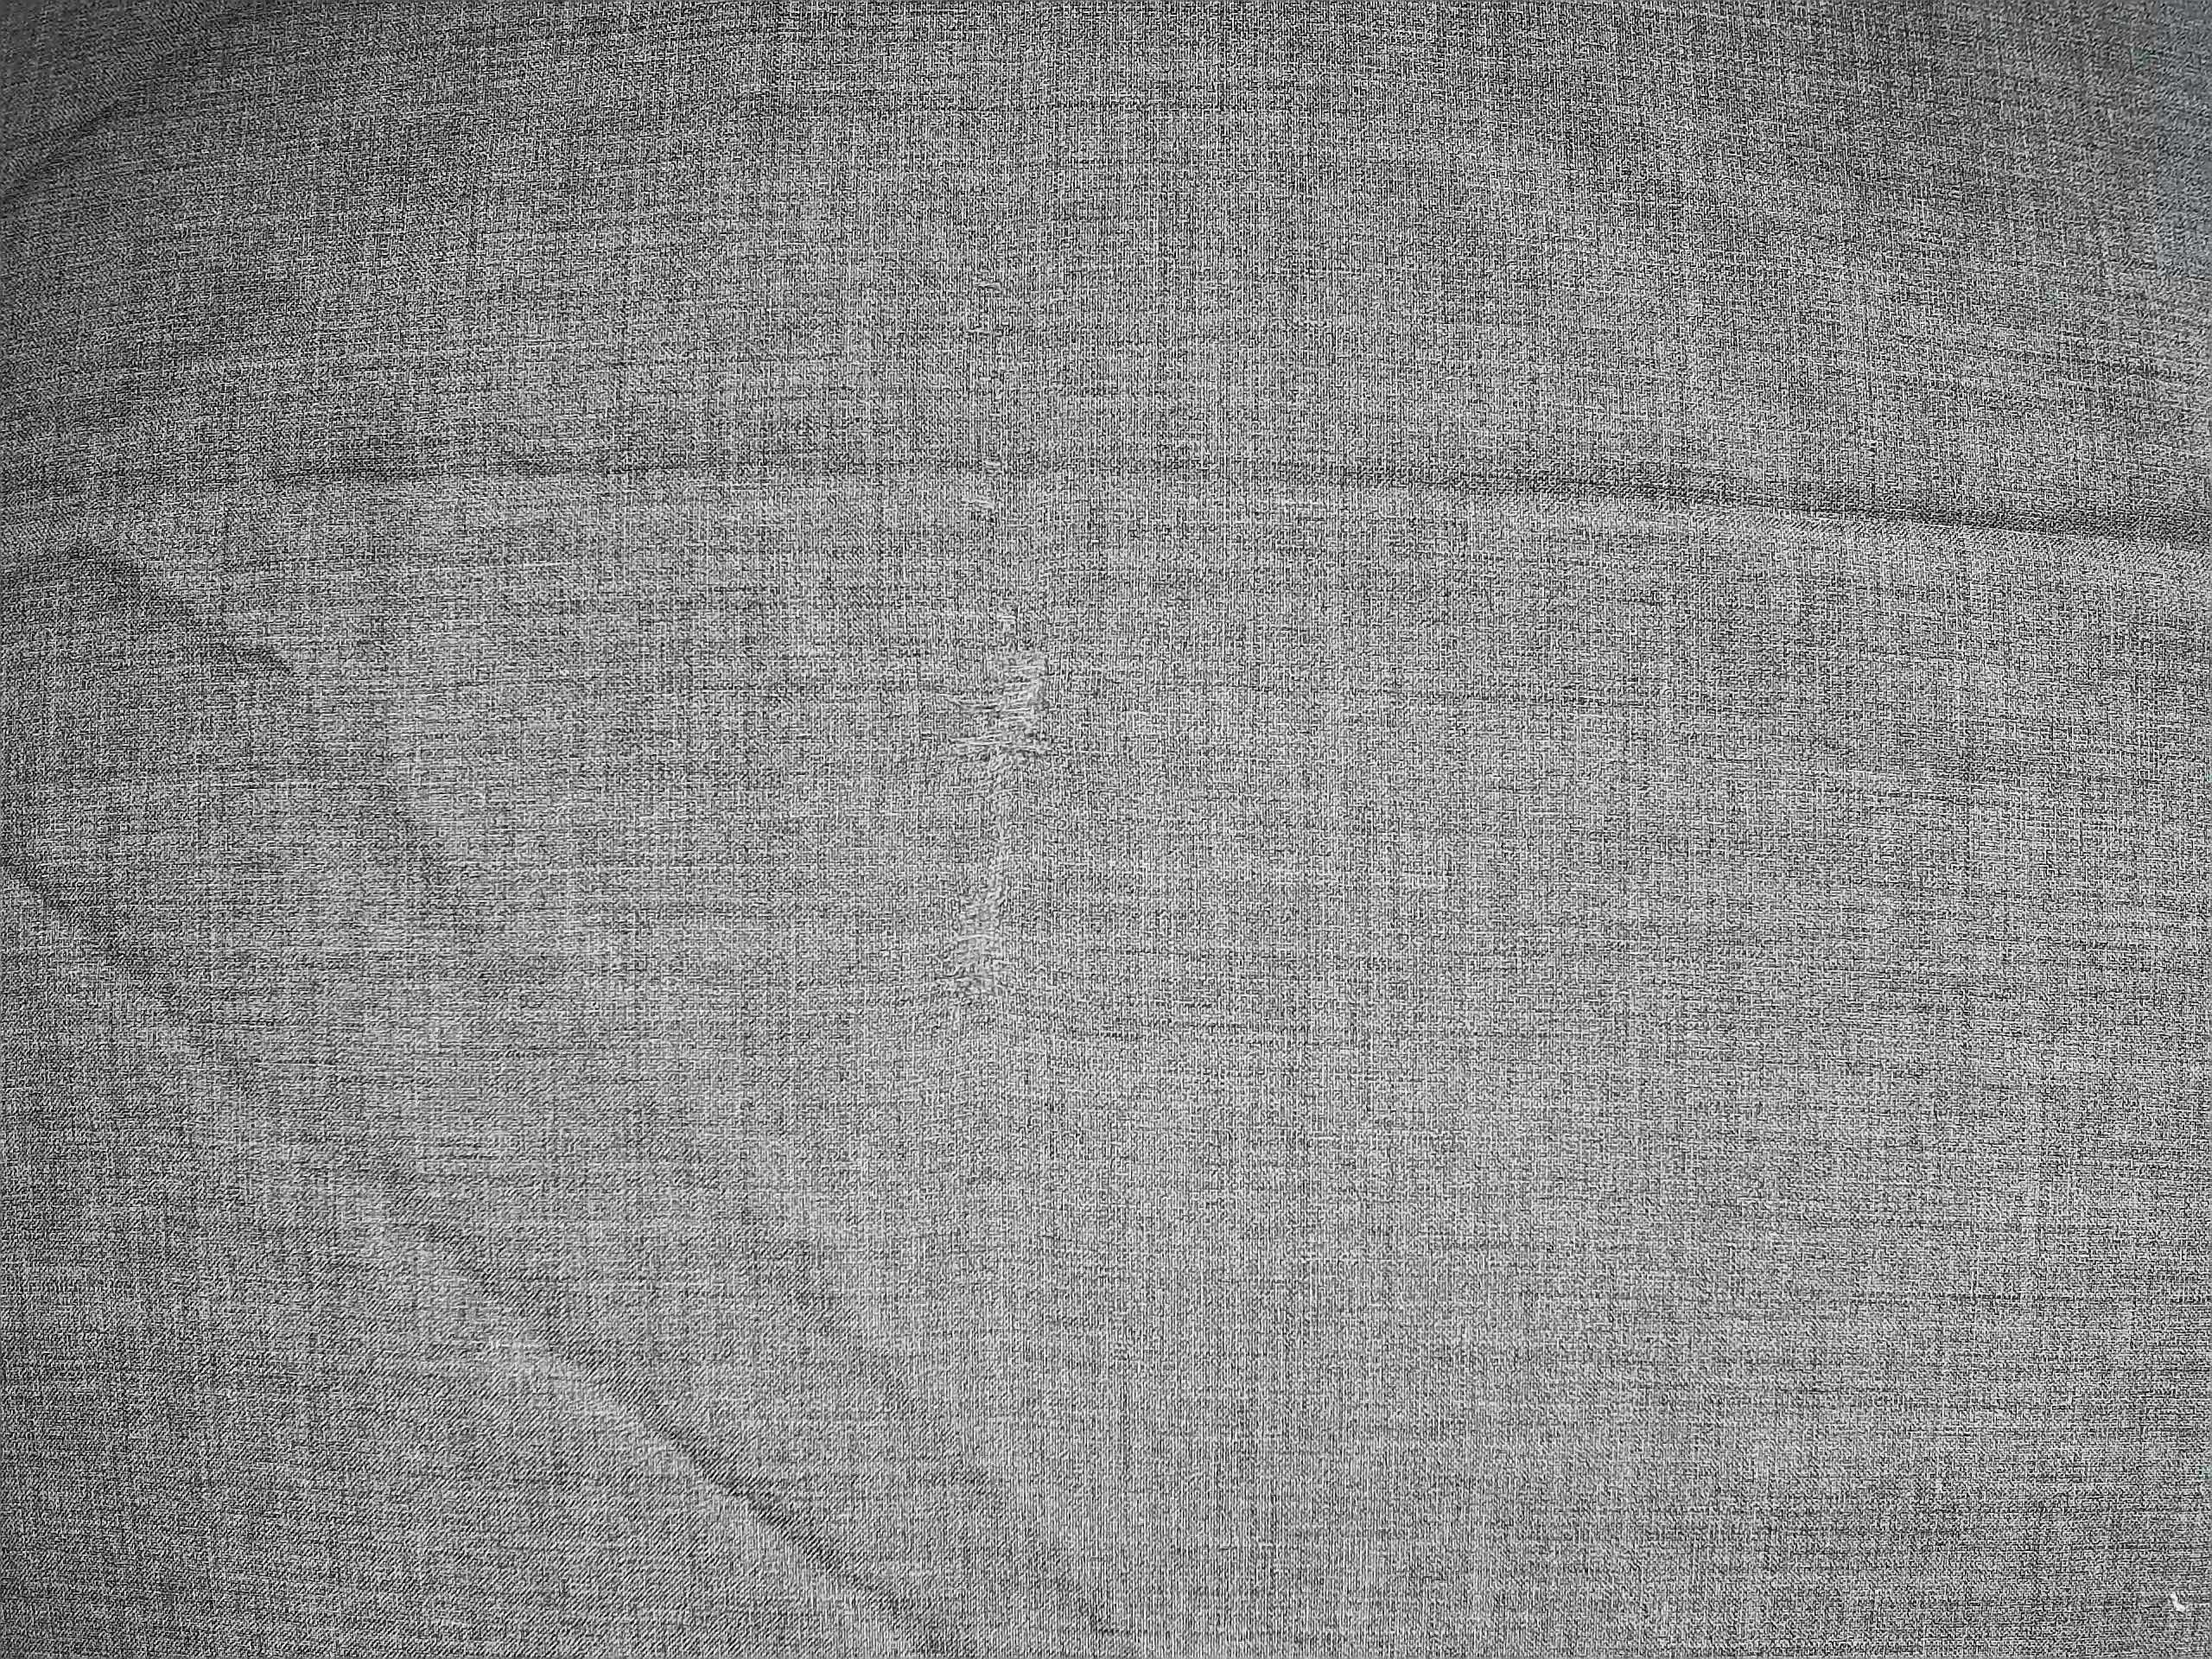hanging-warp: (937, 606, 1062, 1042)
